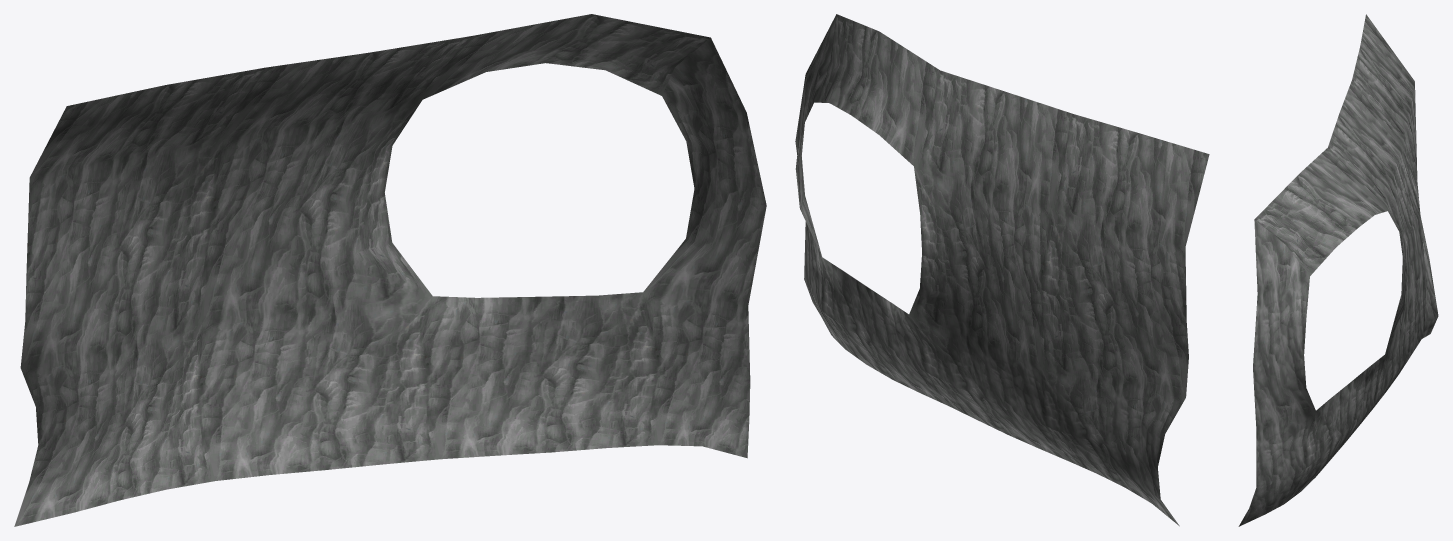
Rendered from SWORDLIGHT20_PS-AREA04_21.fbx.
The picture shows the model from 3 angles, left to right: view 1: azimuth 30°, elevation 25°; view 2: azimuth 150°, elevation 25°; view 3: azimuth 270°, elevation 25°; orthographic projection. The views are drawn at different scales.
Parts seen in each view (by area): view 1: SWORDLIGHT20_PS-AREA04_21; view 2: SWORDLIGHT20_PS-AREA04_21; view 3: SWORDLIGHT20_PS-AREA04_21.
Boxes of the visible parts, <box> form: SWORDLIGHT20_PS-AREA04_21: <box>14,14,766,526</box>; SWORDLIGHT20_PS-AREA04_21: <box>795,14,1209,526</box>; SWORDLIGHT20_PS-AREA04_21: <box>1238,14,1438,526</box>.
Size of the model in its own units: 146292 by 102764 by 56567.
1 material, 1 textured.
